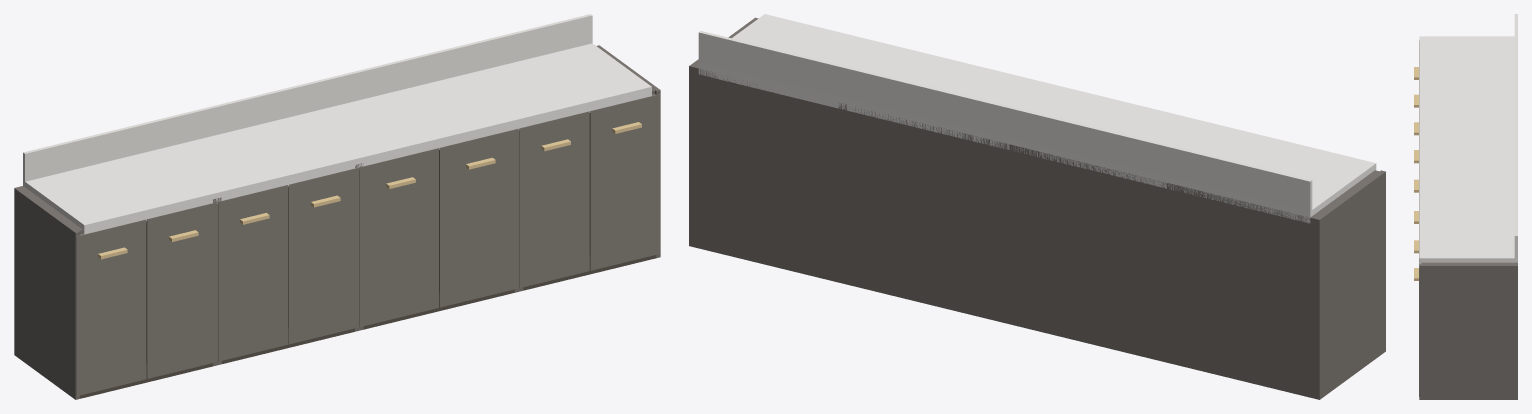
3 views of the same model, side by side, from view 1: azimuth 30°, elevation 25°; view 2: azimuth 150°, elevation 25°; view 3: azimuth 270°, elevation 25° (orthographic). The views are drawn at different scales.
Parts seen in each view (by area): view 1: Countertop, Backsplash, Lower_Cabinet_Sink_Door_Left, Lower_Cabinet_Sink_Door_Right, Lower_Cabinet_4_Door_Right, Lower_Cabinet_1_Door_Right, Lower_Cabinet_1_Door_Left, Lower_Cabinet_2_Door_Left, Lower_Cabinet_4_Door_Left, Lower_Cabinet_2_Door_Right, Lower_Cabinet_1_Left_Side, Lower_Cabinet_Sink_Toe_Kick (+3 smaller); view 2: Lower_Cabinet_Sink_Back, Countertop, Lower_Cabinet_1_Back, Lower_Cabinet_2_Back, Lower_Cabinet_4_Back, Backsplash, Lower_Cabinet_1_Left_Side, Lower_Cabinet_Sink_Left_Side, Lower_Cabinet_4_Left_Side, Lower_Cabinet_2_Left_Side, Lower_Cabinet_Sink_Right_Side, Lower_Cabinet_4_Right_Side; view 3: Countertop, Lower_Cabinet_4_Right_Side, Backsplash, Lower_Cabinet_4_Back, Lower_Cabinet_4_Top, Lower_Cabinet_4_Door_Right.
Part boxes in pixels (x1=…): Countertop: x1=23, y1=43, x2=651, y2=234; Backsplash: x1=23, y1=14, x2=592, y2=181; Lower_Cabinet_Sink_Door_Left: x1=359, y1=148, x2=438, y2=326; Lower_Cabinet_Sink_Door_Right: x1=439, y1=128, x2=518, y2=307; Lower_Cabinet_4_Door_Right: x1=589, y1=94, x2=660, y2=270; Lower_Cabinet_1_Door_Right: x1=146, y1=202, x2=217, y2=378; Lower_Cabinet_1_Door_Left: x1=76, y1=219, x2=146, y2=396; Lower_Cabinet_2_Door_Left: x1=218, y1=185, x2=288, y2=361; Lower_Cabinet_4_Door_Left: x1=519, y1=111, x2=589, y2=287; Lower_Cabinet_2_Door_Right: x1=288, y1=167, x2=358, y2=344; Lower_Cabinet_1_Left_Side: x1=14, y1=187, x2=79, y2=399; Lower_Cabinet_Sink_Toe_Kick: x1=363, y1=289, x2=514, y2=329; Lower_Cabinet_Sink_Back: x1=842, y1=107, x2=1013, y2=323; Countertop: x1=698, y1=14, x2=1376, y2=223; Lower_Cabinet_1_Back: x1=1167, y1=183, x2=1321, y2=399; Lower_Cabinet_2_Back: x1=1014, y1=145, x2=1166, y2=362; Lower_Cabinet_4_Back: x1=689, y1=65, x2=841, y2=282; Backsplash: x1=698, y1=31, x2=1312, y2=211; Lower_Cabinet_1_Left_Side: x1=1315, y1=170, x2=1385, y2=399; Lower_Cabinet_Sink_Left_Side: x1=1009, y1=144, x2=1013, y2=325; Lower_Cabinet_4_Left_Side: x1=837, y1=103, x2=841, y2=283; Lower_Cabinet_2_Left_Side: x1=1162, y1=182, x2=1166, y2=362; Lower_Cabinet_Sink_Right_Side: x1=842, y1=104, x2=846, y2=284; Lower_Cabinet_4_Right_Side: x1=689, y1=17, x2=758, y2=246; Countertop: x1=1419, y1=36, x2=1517, y2=264; Lower_Cabinet_4_Right_Side: x1=1419, y1=264, x2=1517, y2=399; Backsplash: x1=1514, y1=14, x2=1517, y2=258; Lower_Cabinet_4_Back: x1=1513, y1=262, x2=1517, y2=399; Lower_Cabinet_4_Top: x1=1421, y1=262, x2=1515, y2=264; Lower_Cabinet_4_Door_Right: x1=1419, y1=242, x2=1419, y2=396.
Size of the model in its own units: 3.3 by 1.08 by 0.6325.
